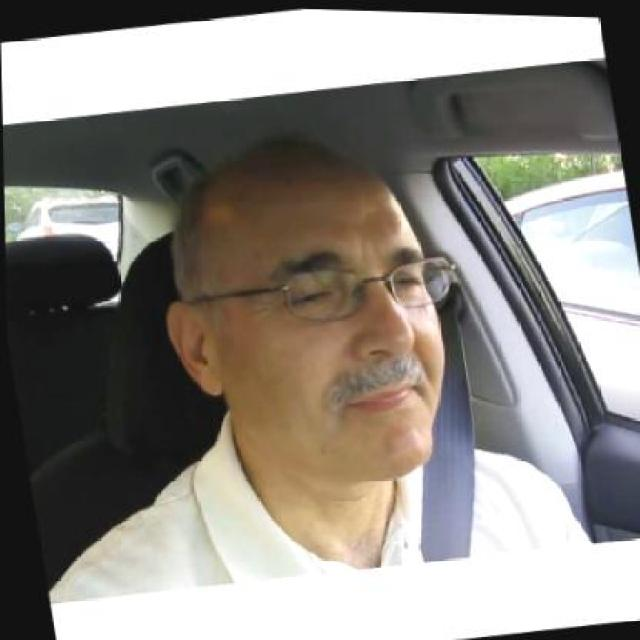attentif: (142, 111, 484, 497)
